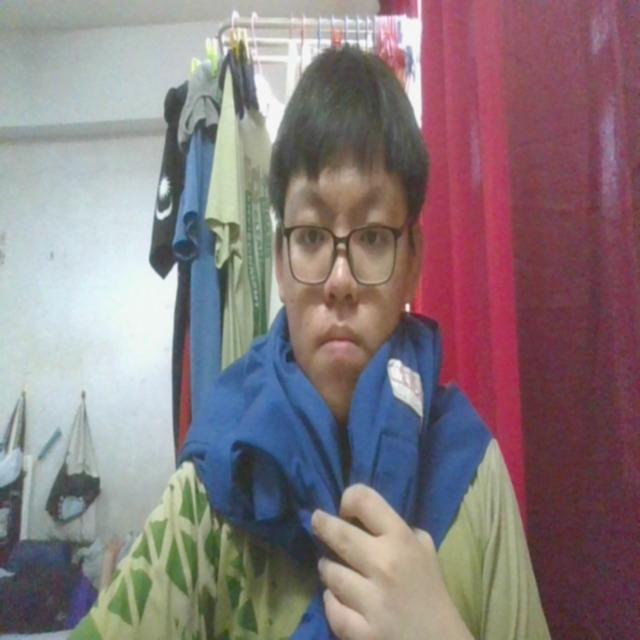person_without_labcoat: (71, 48, 548, 639)
